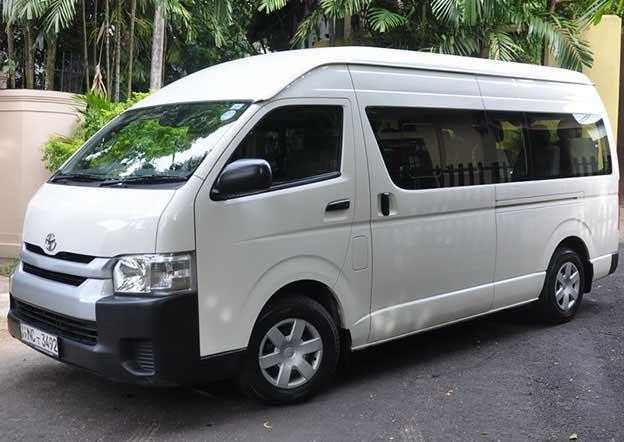van: (7, 47, 619, 405)
